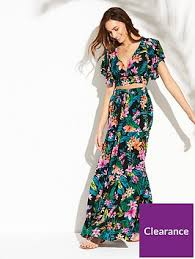C_skirt: (81, 88, 166, 245)
